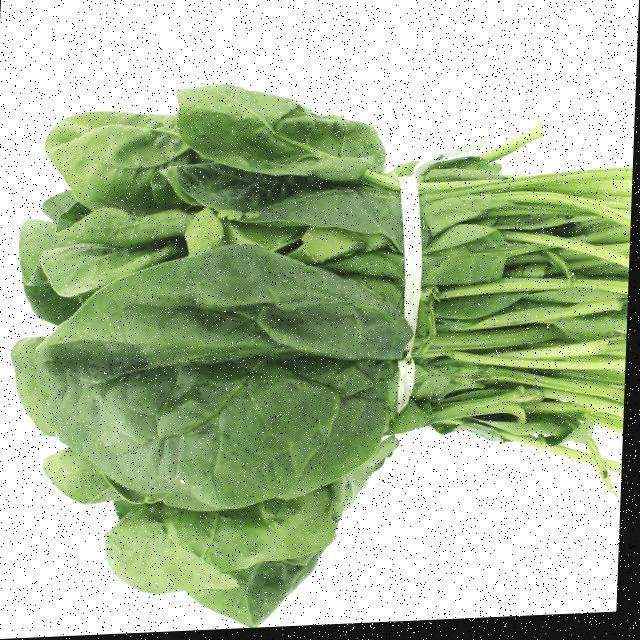Spinach: (0, 68, 637, 624)
